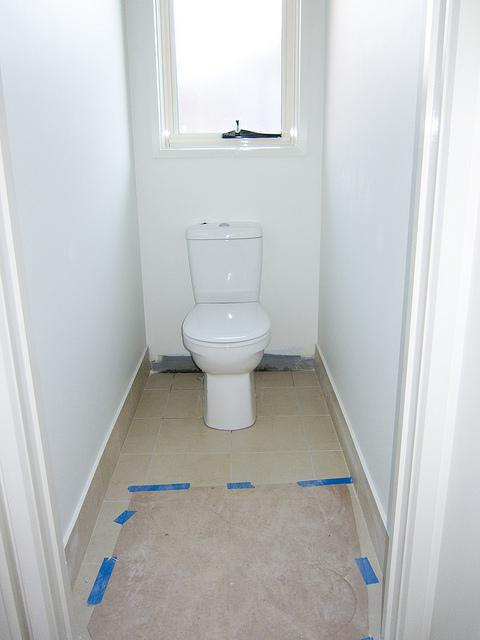Sanitario: (176, 215, 283, 434)
